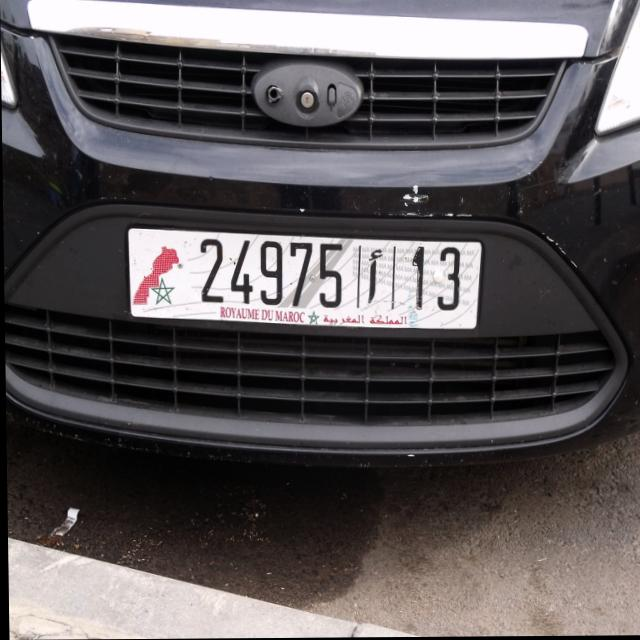License-Plate: (126, 227, 482, 330)
